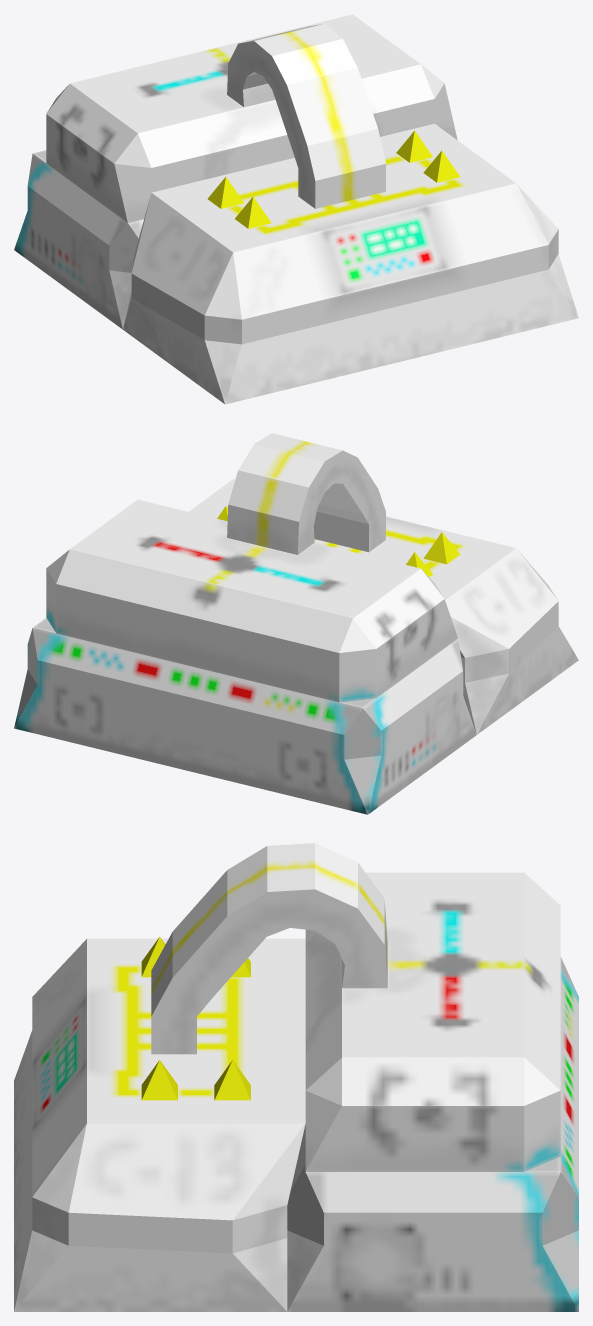
File: Crafter.fbx
The picture shows the model from 3 angles, top to bottom: view 1: azimuth 30°, elevation 25°; view 2: azimuth 150°, elevation 25°; view 3: azimuth 270°, elevation 25°; orthographic projection. The views are drawn at different scales.
Visible parts, largest first — view 1: base, beveled_cuboid, for_items, pyramid_2, pyramid_3, pyramid, pyramid_1; view 2: beveled_cuboid, for_items, base, pyramid_2; view 3: beveled_cuboid, base, for_items, pyramid, pyramid_1.
Boxes of the visible parts, x1,y1,x2,y2 form: base: (123, 123, 578, 404); beveled_cuboid: (46, 14, 457, 222); for_items: (14, 150, 143, 329); pyramid_2: (235, 196, 271, 228); pyramid_3: (207, 177, 244, 208); pyramid: (396, 130, 432, 162); pyramid_1: (423, 150, 459, 182); beveled_cuboid: (46, 433, 457, 702); for_items: (14, 618, 476, 814); base: (189, 479, 578, 734); pyramid_2: (423, 532, 460, 564); beveled_cuboid: (151, 843, 560, 1171); base: (14, 938, 305, 1311); for_items: (287, 956, 578, 1311); pyramid: (214, 1060, 250, 1100); pyramid_1: (141, 1060, 177, 1100).
Size of what is drawn, in the model's own units: 16 by 9.99 by 15.5.
5 materials, 5 textured.
